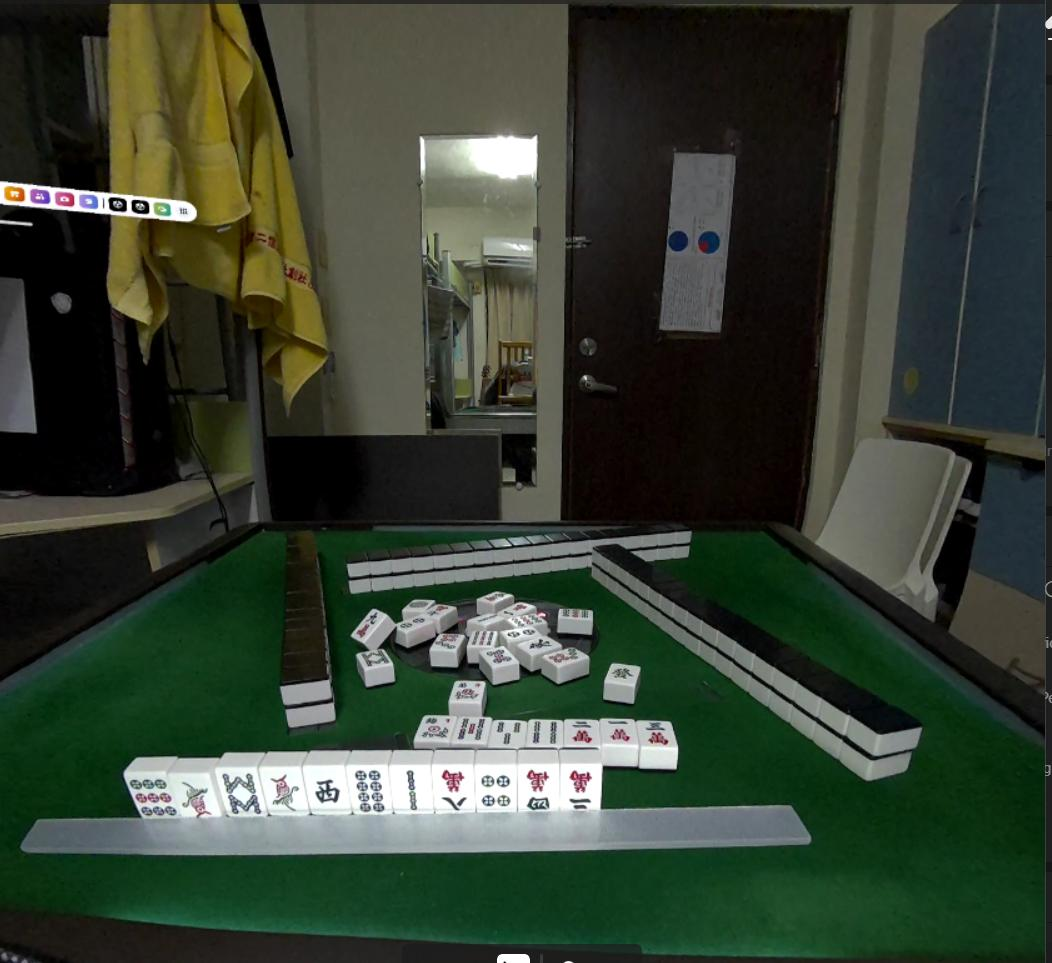mahjong: (517, 755, 567, 822), (218, 760, 269, 823), (260, 759, 309, 822), (300, 760, 352, 818), (385, 754, 433, 815), (430, 764, 480, 822), (348, 757, 393, 815), (560, 767, 605, 820), (472, 764, 515, 816), (170, 765, 213, 816), (127, 775, 173, 818)
